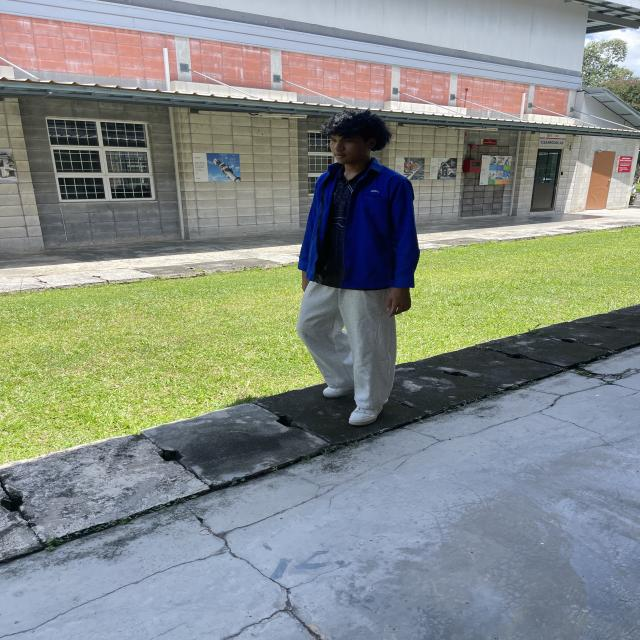person_with_labcoat: (297, 111, 419, 426)
